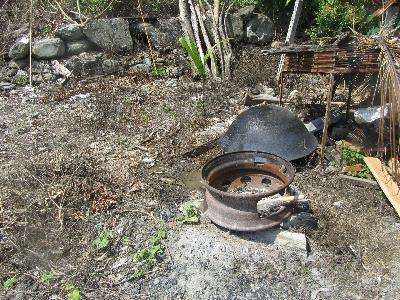bowl: (198, 151, 297, 236), (213, 100, 322, 173)
